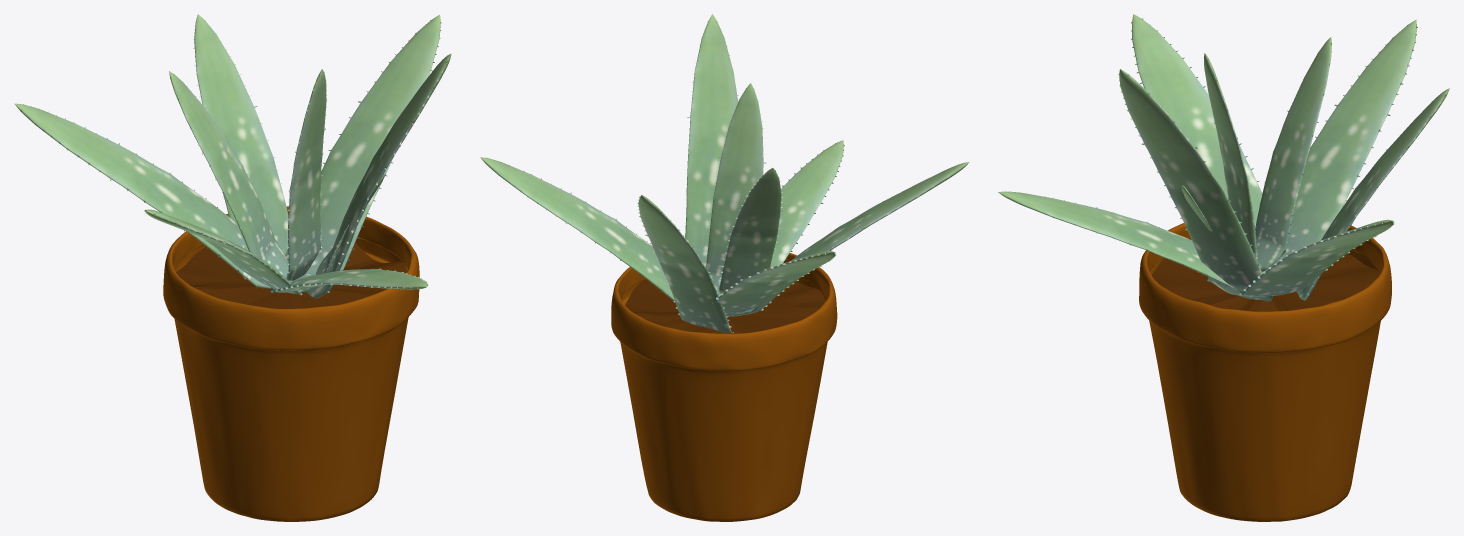
Rendered from AloeVera.fbx.
3 renders of one model, left to right at view 1: azimuth 30°, elevation 25°; view 2: azimuth 150°, elevation 25°; view 3: azimuth 270°, elevation 25°, orthographic. The views are drawn at different scales.
Visible parts, largest first — view 1: Cylinder, Cylinder.006, Cylinder.001; view 2: Cylinder.006, Cylinder, Cylinder.001; view 3: Cylinder.006, Cylinder, Cylinder.001.
Boxes of the visible parts, x1=… form: Cylinder: x1=163, y1=206, x2=419, y2=521; Cylinder.006: x1=15, y1=14, x2=451, y2=298; Cylinder.001: x1=176, y1=242, x2=407, y2=308; Cylinder.006: x1=480, y1=14, x2=969, y2=332; Cylinder: x1=611, y1=253, x2=837, y2=521; Cylinder.001: x1=625, y1=279, x2=826, y2=333; Cylinder.006: x1=998, y1=14, x2=1449, y2=301; Cylinder: x1=1139, y1=223, x2=1391, y2=521; Cylinder.001: x1=1151, y1=254, x2=1379, y2=311.
Size of the model in its own units: 404 by 423 by 377.
